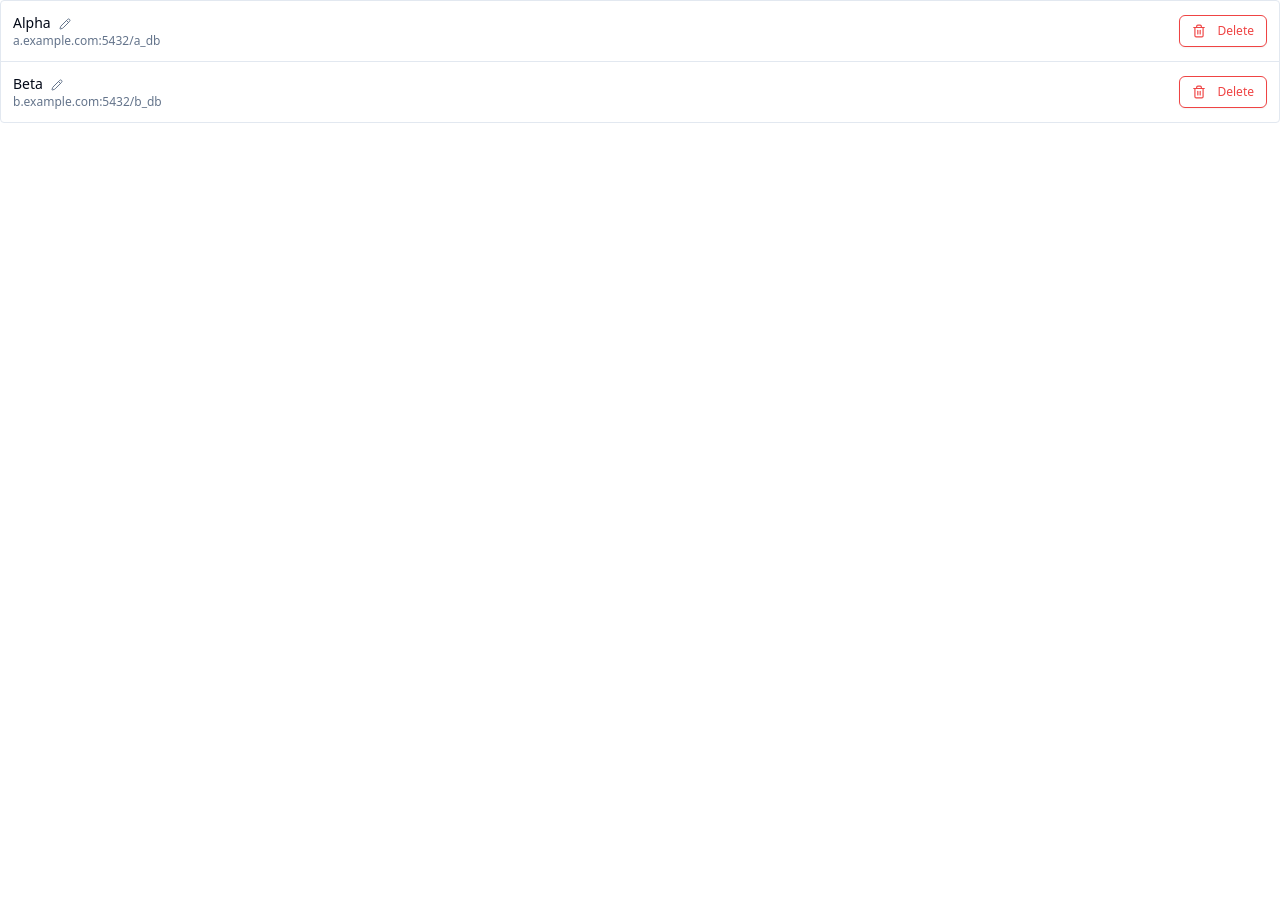
Test: clicking Delete on a row opens the confirmation dialog with that profile
Click the button with aria-label "delete profile alpha": click(1223, 31) 1178,15 -> 1267,47
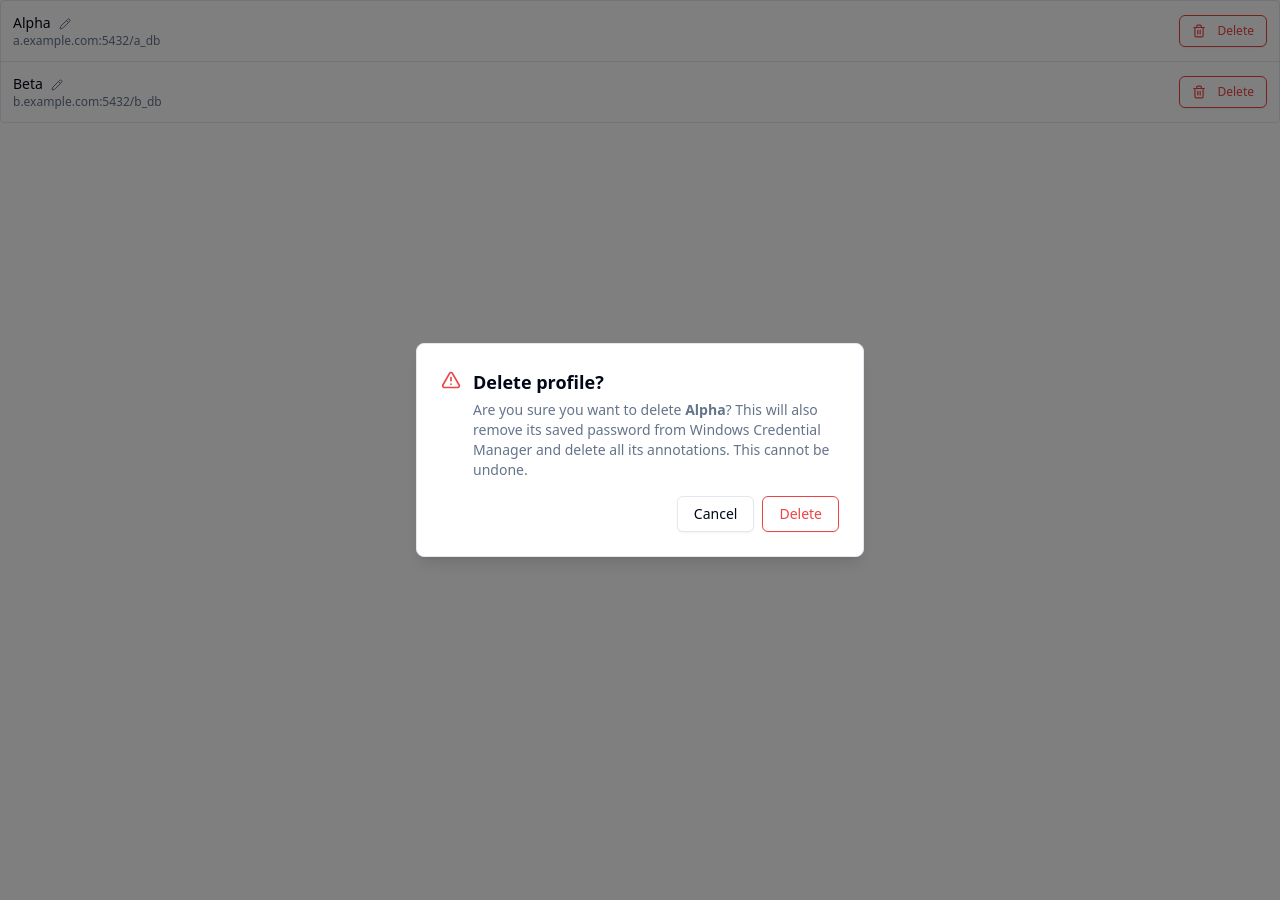
Check: the dialog shows "Alpha", box 685,400 -> 726,419
